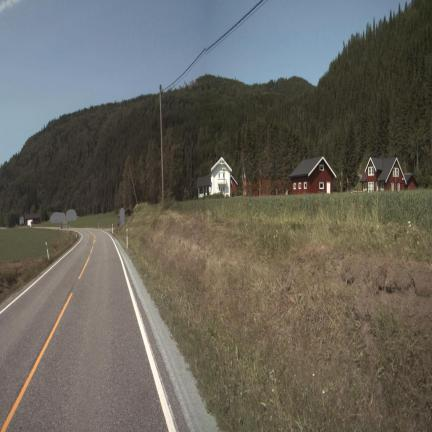Road: (0, 230, 190, 431)
